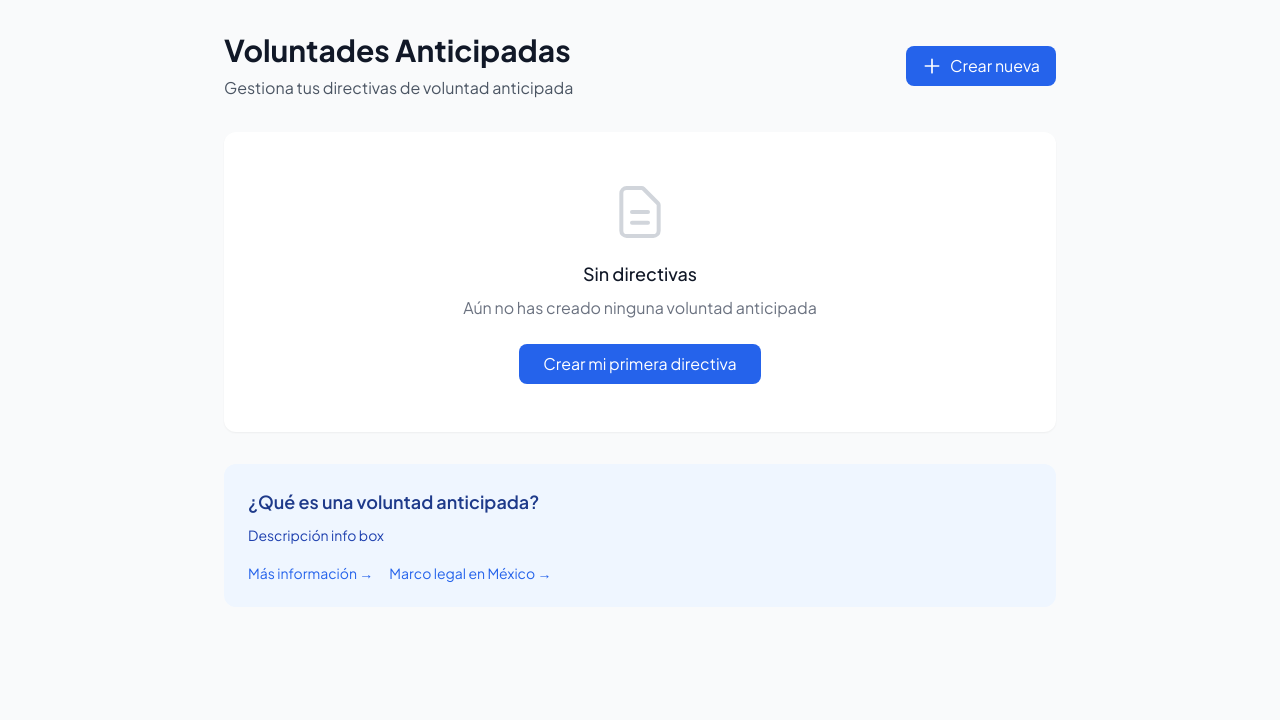
it: Directives – create modal › closing the modal via the X button hides it
The width and height of the screenshot is (1280, 720).
Click the button "Crear nueva". click: (981, 66)
box: [906,46,1056,86]
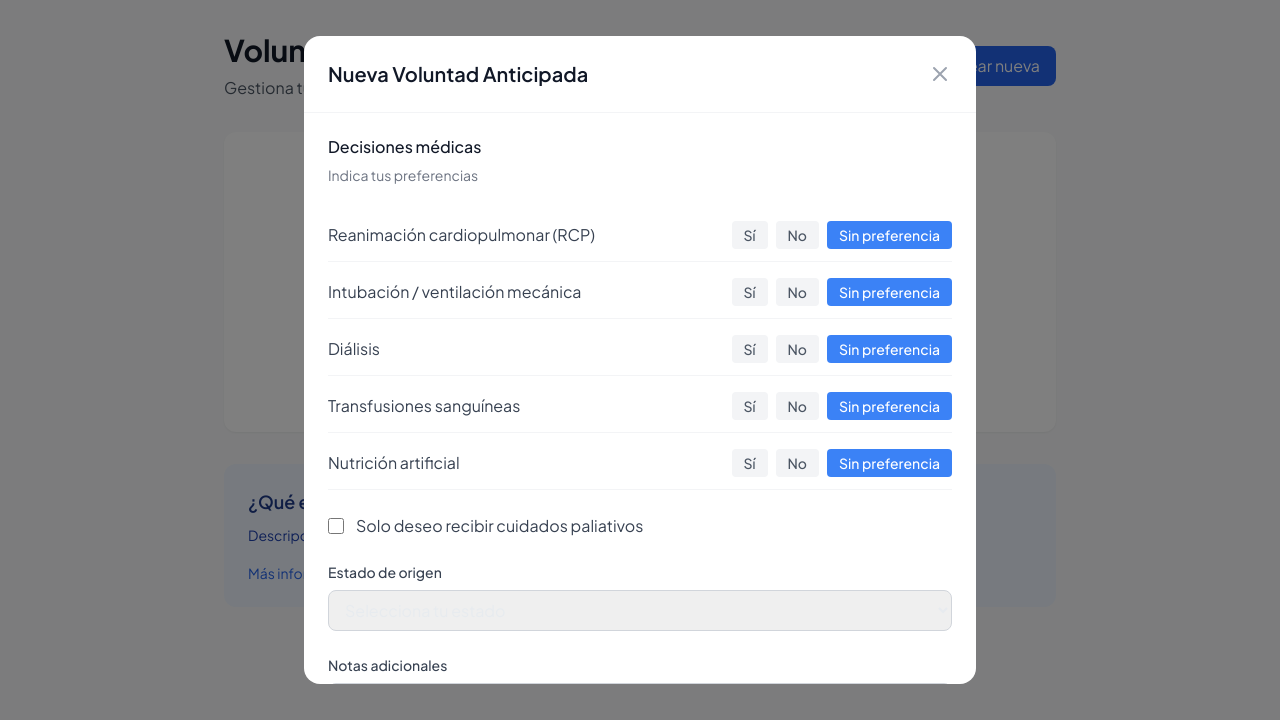
Expected: the dialog "Nueva Voluntad Anticipada" is shown
Click the button named "Cerrar modal". click: (940, 74)
box: [928,62,952,86]
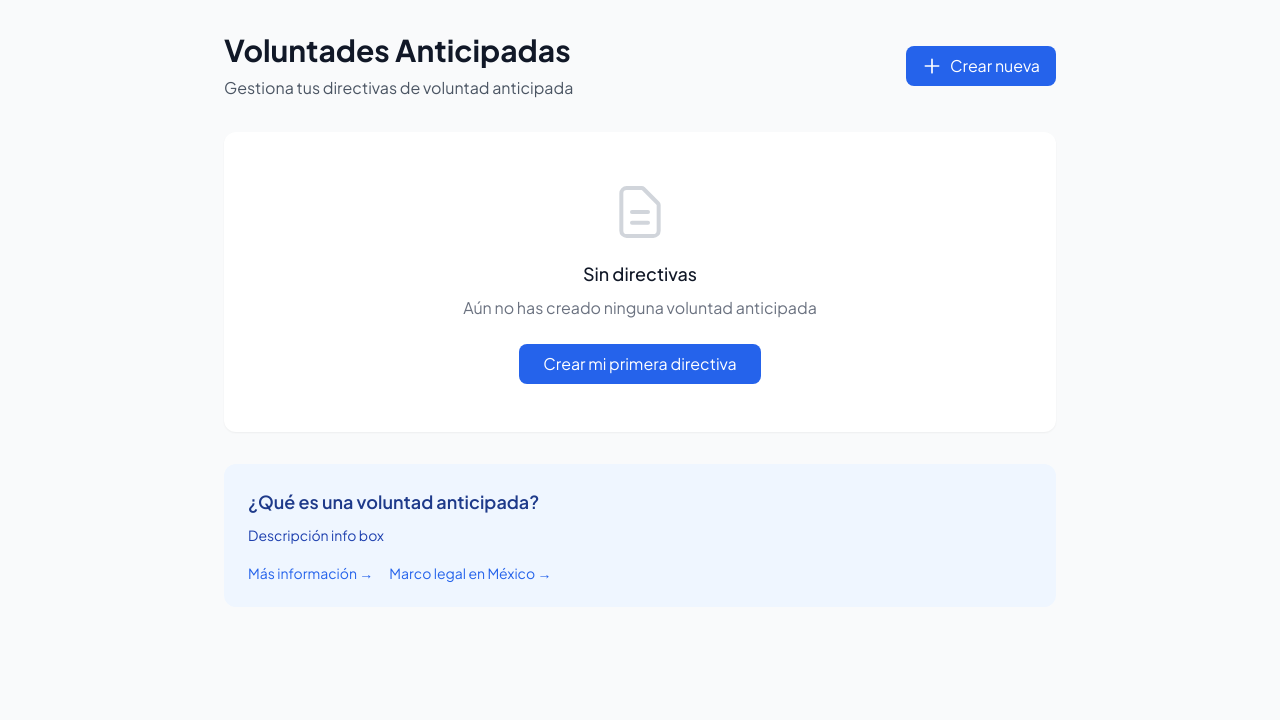
Expected: the heading "Nueva Voluntad Anticipada" is gone
